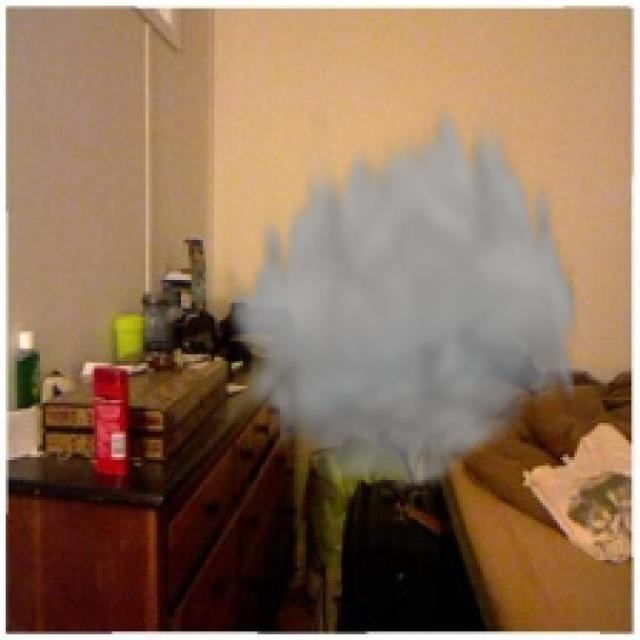Smoke: (223, 92, 583, 497)
